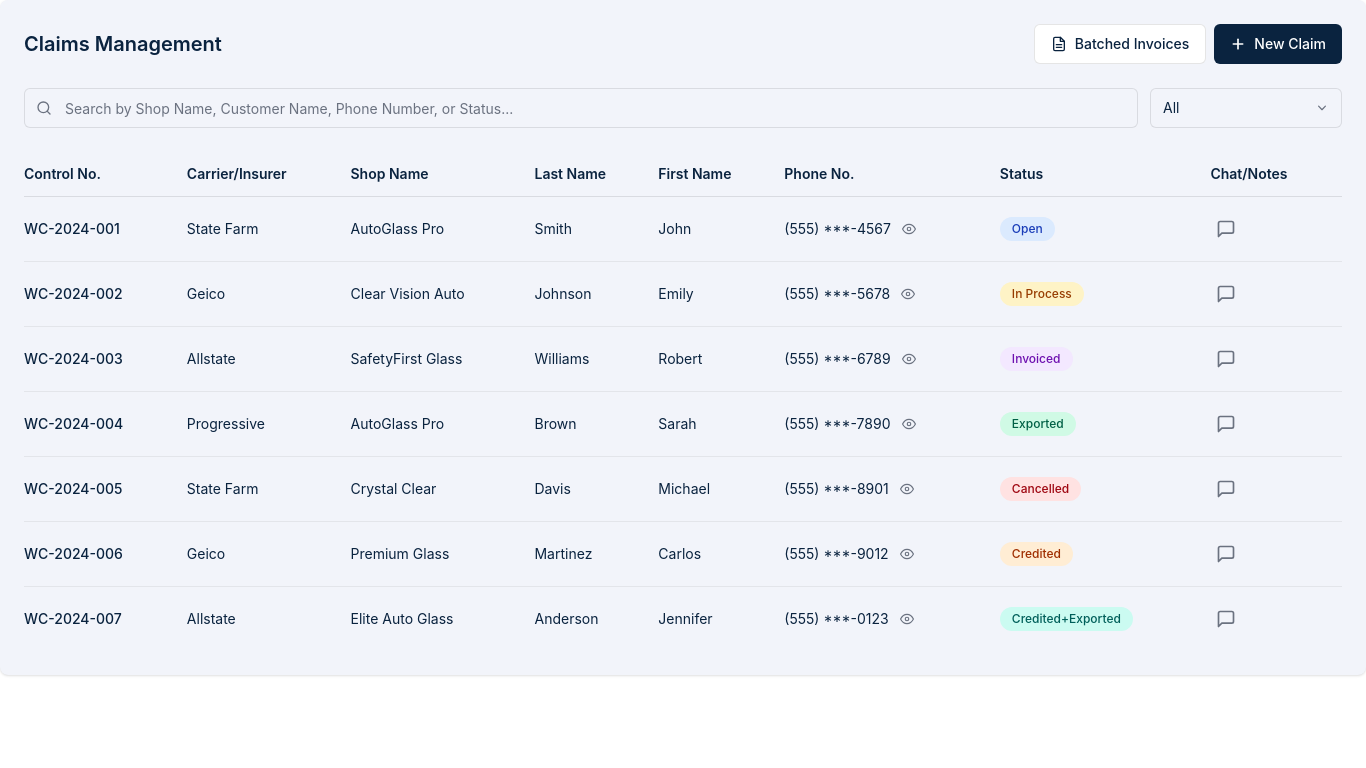
Scenario: ClaimsListPage › filters by status
Select "In Process" in the dropdown named "filter by status" at point(1246, 108), box [1150,88,1342,128]
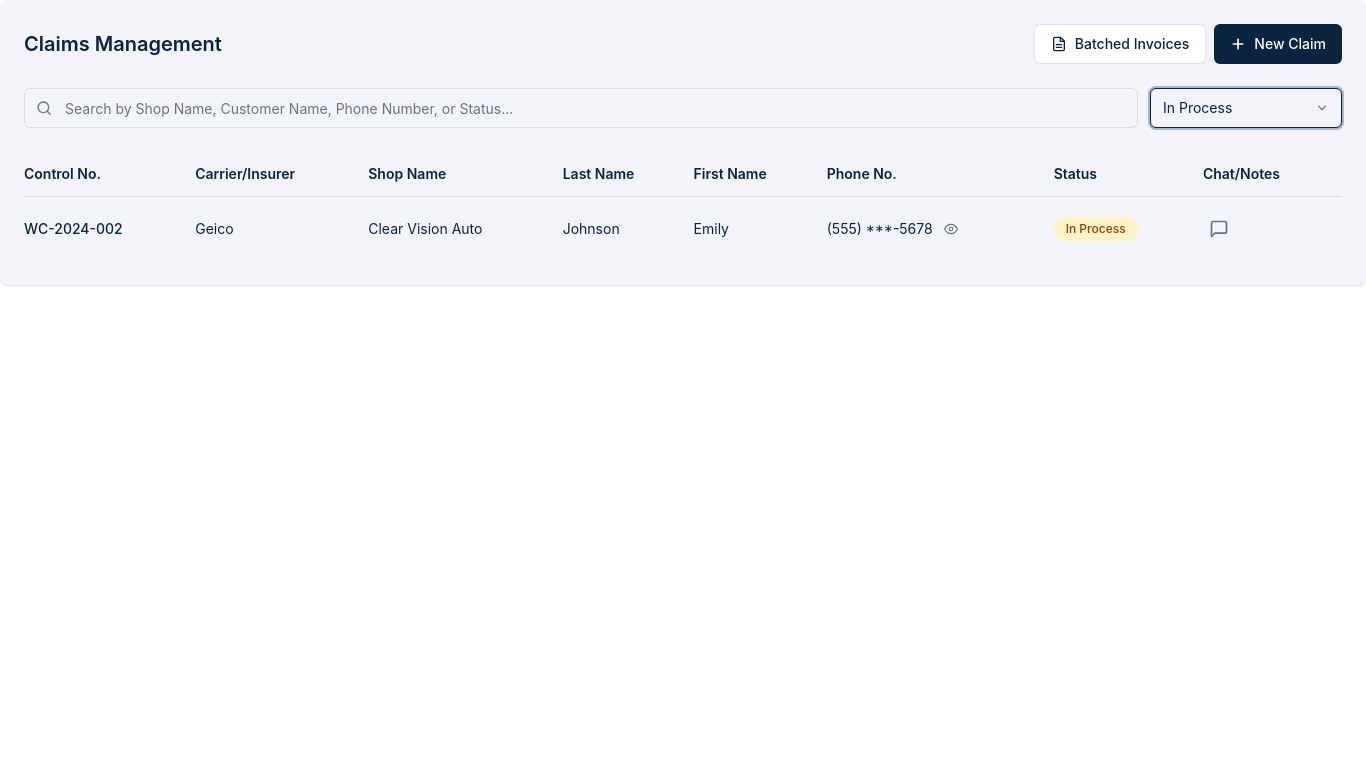
Expected: the link "WC-2024-002" is shown, [24,220,123,237]
Now the link "WC-2024-001" is gone
